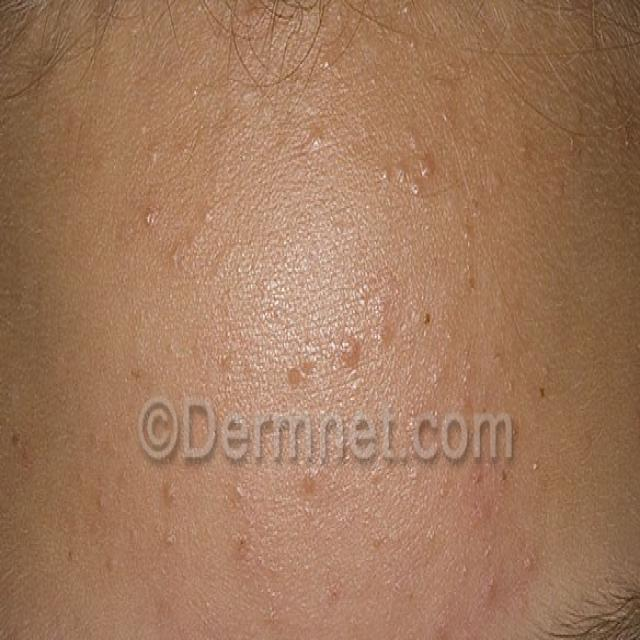Acne: (57, 69, 640, 535)
